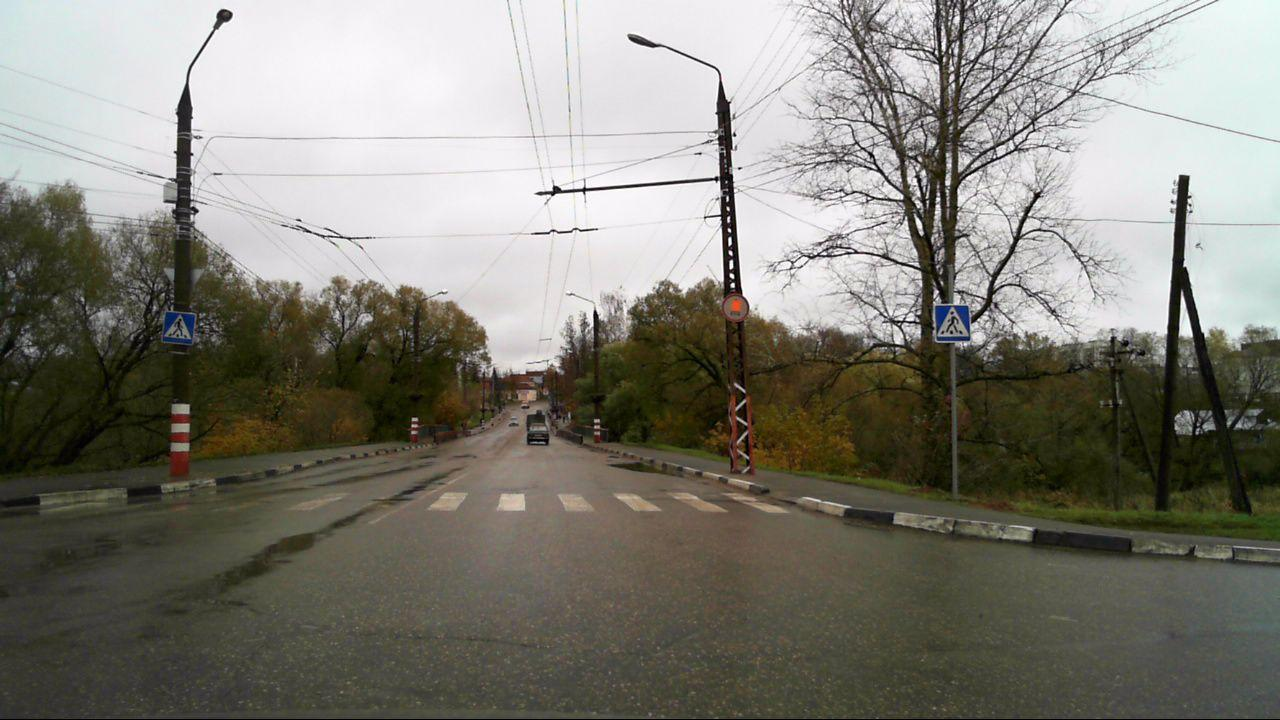road_sign: (933, 302, 973, 343), (161, 309, 197, 347)
